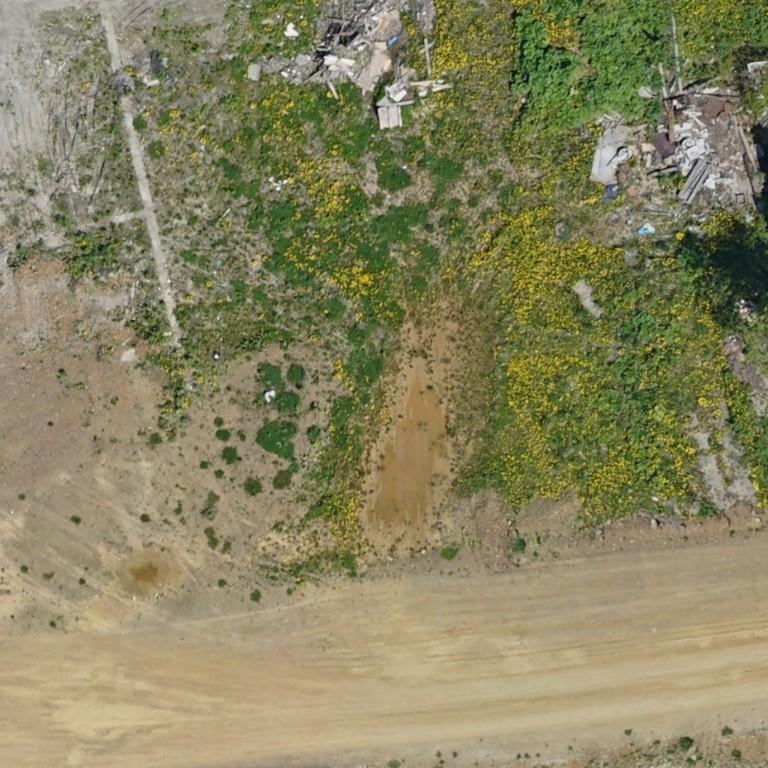hogweed: (510, 0, 674, 127)
